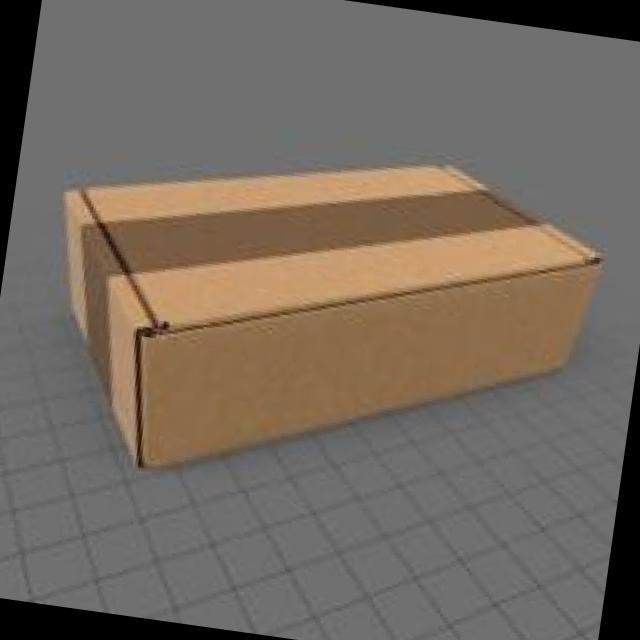box: (64, 158, 606, 469)
